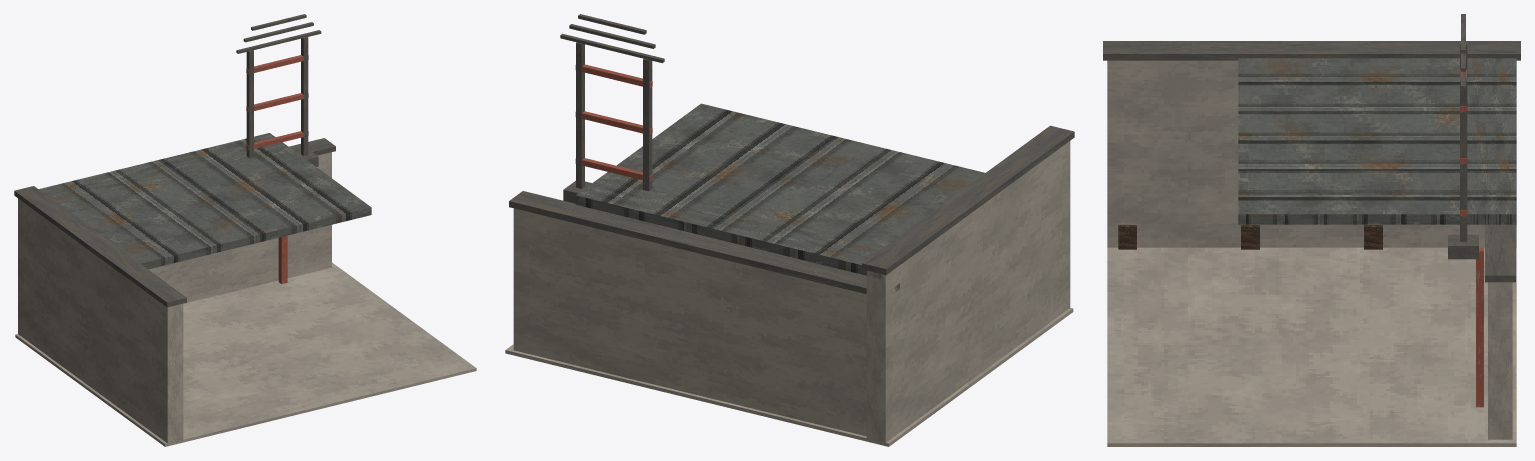
File: poi_relay.glb
3 views of the same model, side by side, from view 1: azimuth 30°, elevation 25°; view 2: azimuth 150°, elevation 25°; view 3: azimuth 270°, elevation 25° (orthographic). The views are drawn at different scales.
Visible parts, largest first — view 1: root, roof; view 2: root, roof; view 3: root, roof.
Part boxes in pixels (x1,y1,x2,y2): root: (14,14,476,446); roof: (58,147,371,269); root: (505,14,1074,446); roof: (600,103,984,246); root: (1103,14,1520,446); roof: (1238,58,1459,224).
Size of the model in its own units: 6 by 4.98 by 5.1.
Materials: 1 (1 with a texture image).
